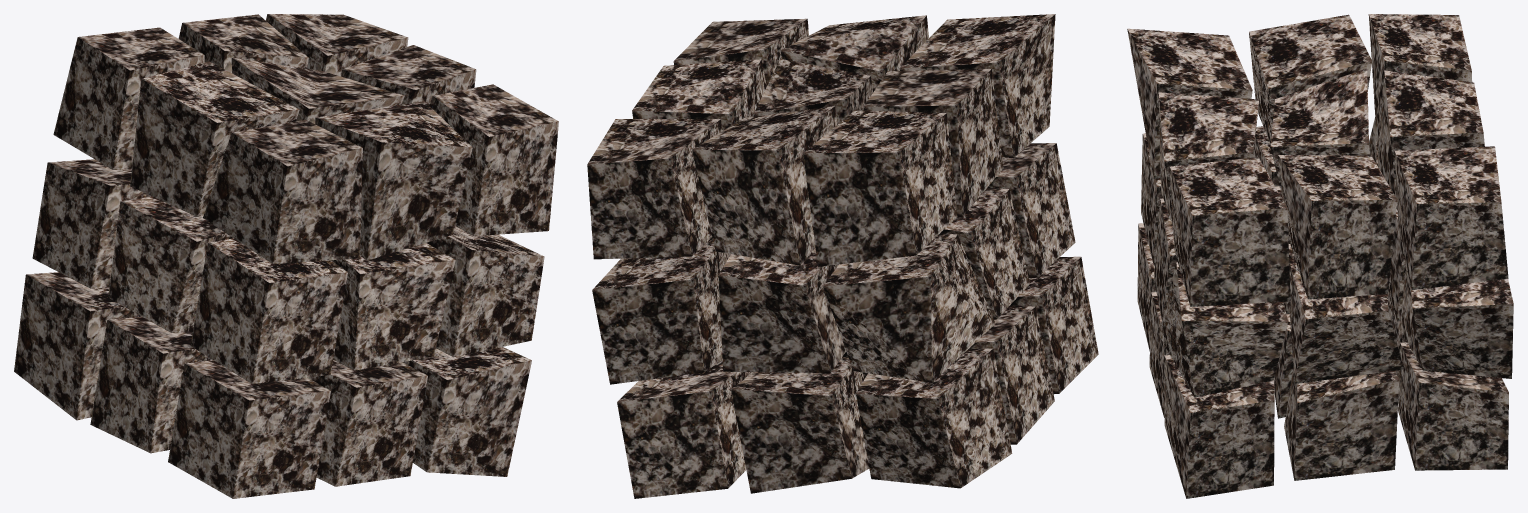
The model's file is modifierApplied.dae.
The picture shows the model from 3 angles, left to right: view 1: azimuth 30°, elevation 25°; view 2: azimuth 150°, elevation 25°; view 3: azimuth 270°, elevation 25°; orthographic projection. The views are drawn at different scales.
Parts seen in each view (by area): view 1: Cube; view 2: Cube; view 3: Cube.
Part boxes in pixels (x1=…): Cube: x1=14, y1=14, x2=558, y2=498; Cube: x1=587, y1=14, x2=1098, y2=498; Cube: x1=1127, y1=14, x2=1513, y2=498.
Bounding box in the file's own units: 8.67 × 8.07 × 8.36.
1 material, 1 textured.
